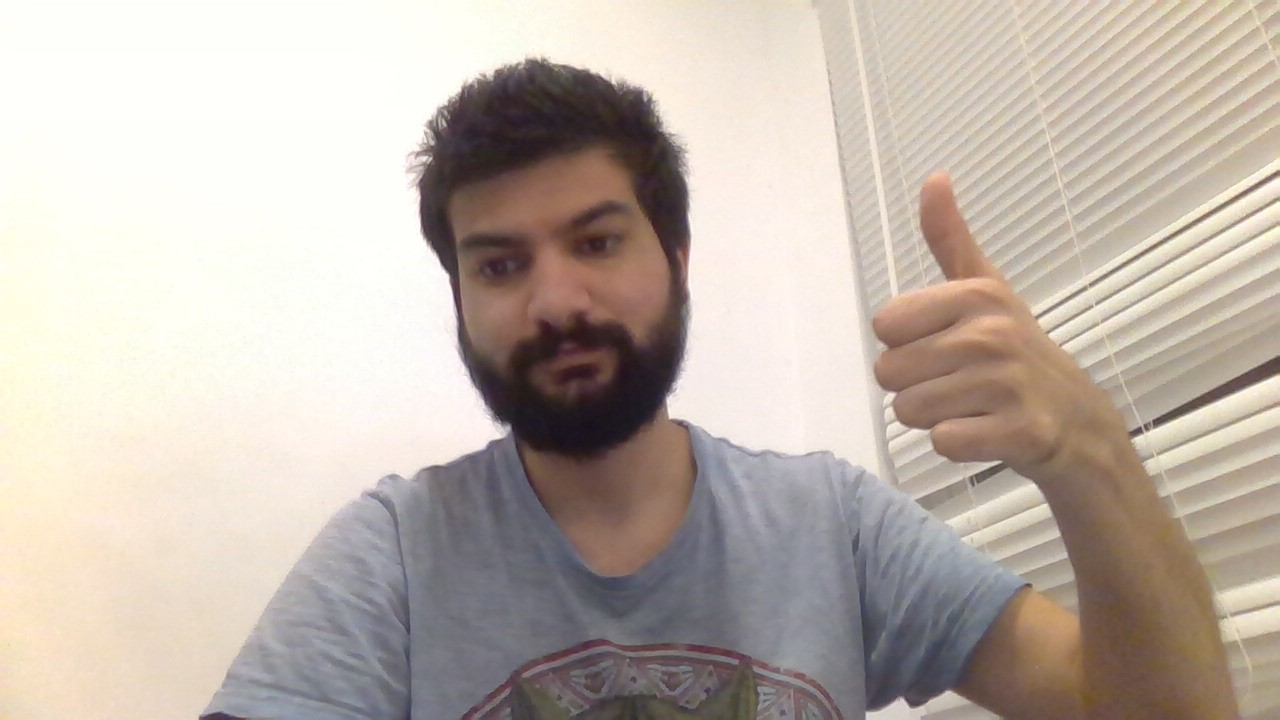up: (856, 161, 1057, 470)
